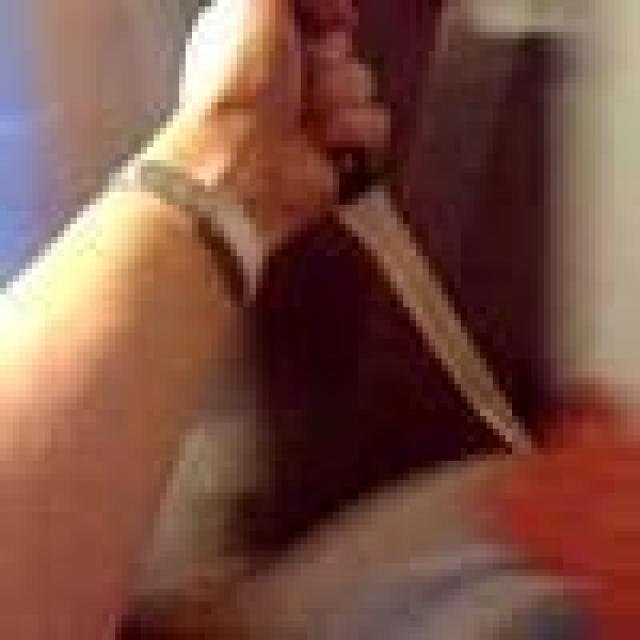senjata_tajam: (325, 152, 544, 462)
